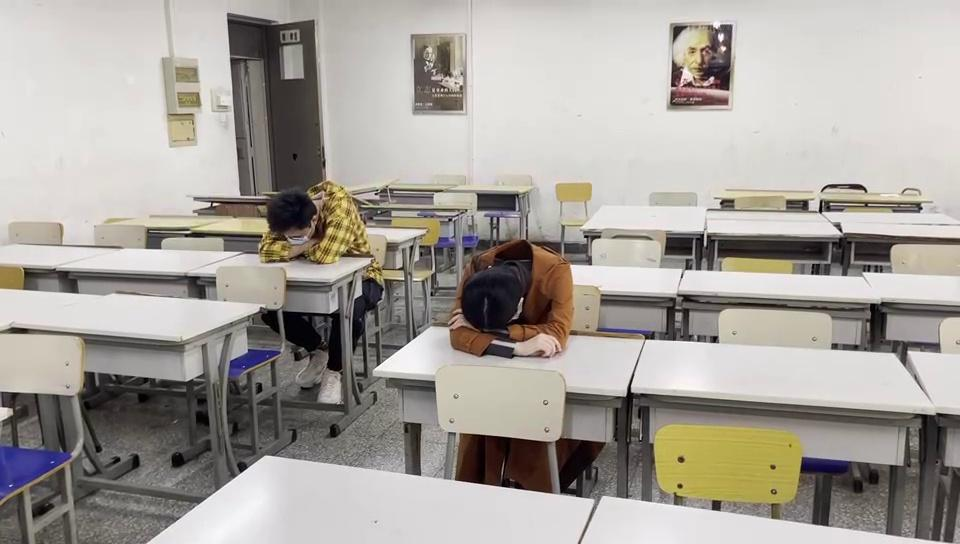sleep: (445, 240, 571, 357), (256, 178, 360, 264)
